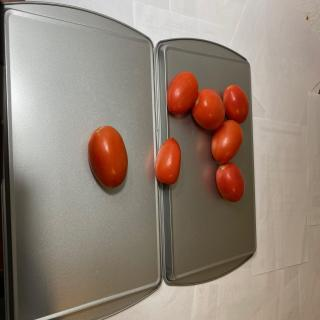Tomato: (87, 125, 128, 189), (166, 71, 198, 115), (192, 88, 225, 130), (211, 120, 243, 163), (154, 137, 181, 185), (216, 162, 244, 202), (223, 84, 249, 124)
